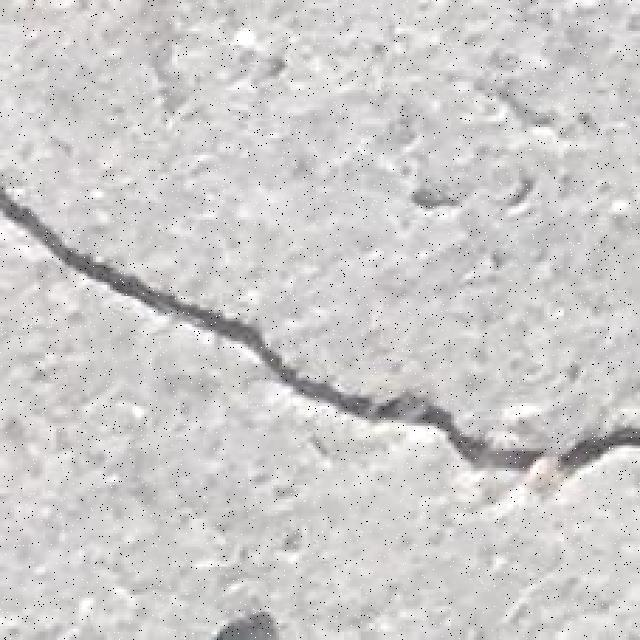crack: (1, 185, 637, 485), (11, 170, 228, 326)
